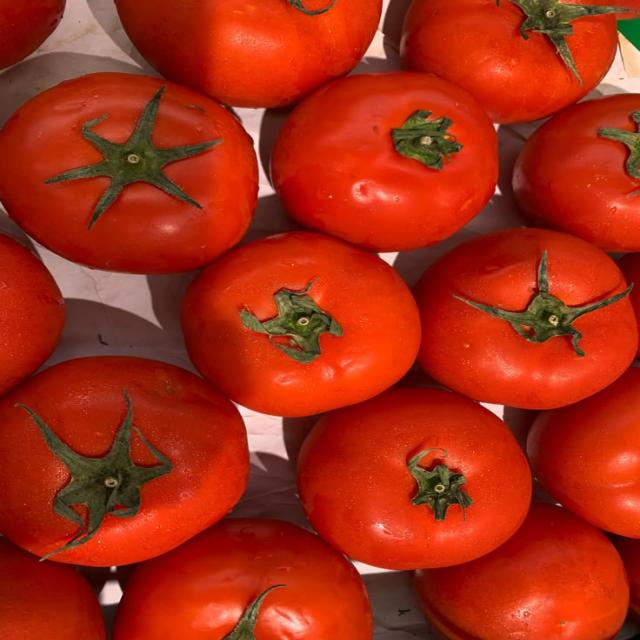tomato: (0, 356, 248, 566), (0, 73, 257, 274), (181, 231, 419, 416), (298, 387, 532, 569), (271, 72, 498, 251), (414, 228, 638, 409), (114, 519, 373, 639), (414, 503, 629, 639), (116, 0, 381, 107), (400, 0, 617, 123), (513, 94, 639, 252), (527, 367, 639, 538), (0, 537, 106, 639), (0, 233, 65, 395), (0, 0, 66, 69), (611, 536, 639, 620), (618, 252, 639, 324), (615, 0, 639, 20)
